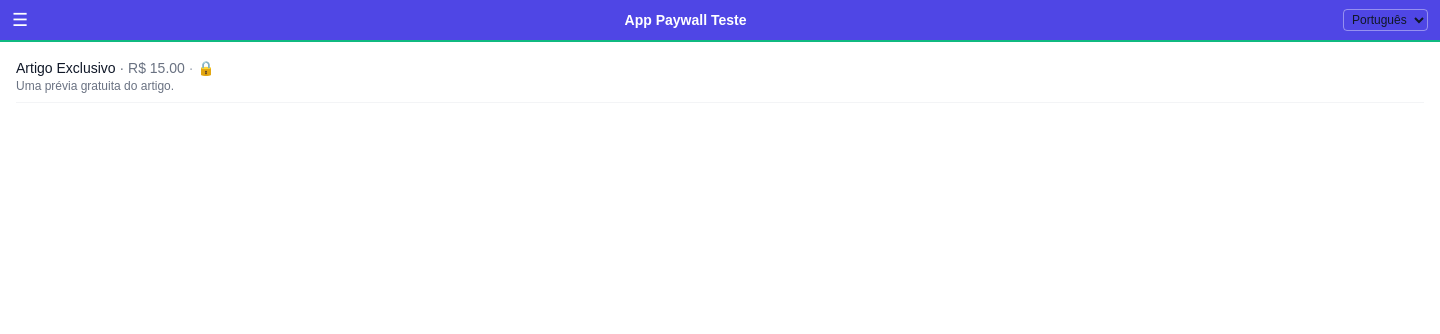
it: AppRuntime conteudo_pago module (public mode) › starts checkout and shows the "Já paguei" confirmation step on unlock click
Expected: the text "Artigo Exclusivo" is shown, [16,60,116,76]
Click the text "Artigo Exclusivo": (115, 68) [16,60,215,76]
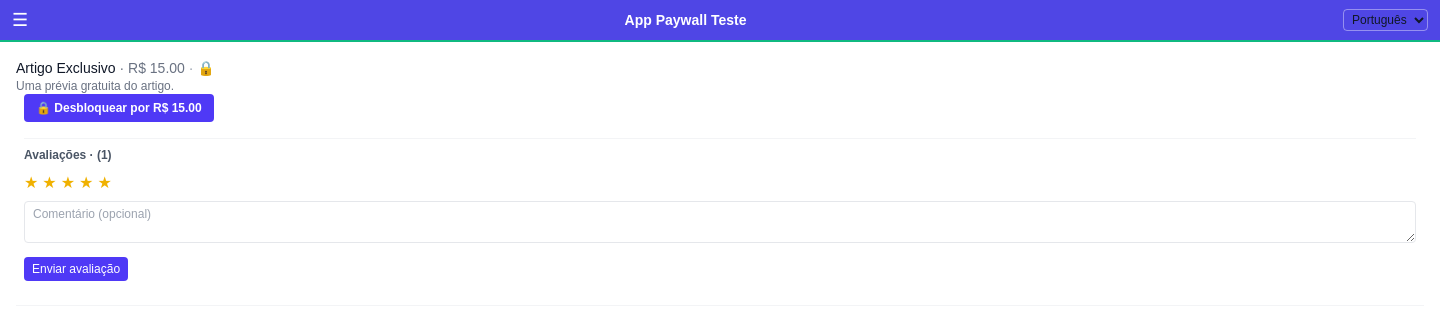
Result: the button "🔒 Desbloquear por R$ 15.00" is shown
Click the button "🔒 Desbloquear por R$ 15.00": (119, 108) [24,94,214,122]
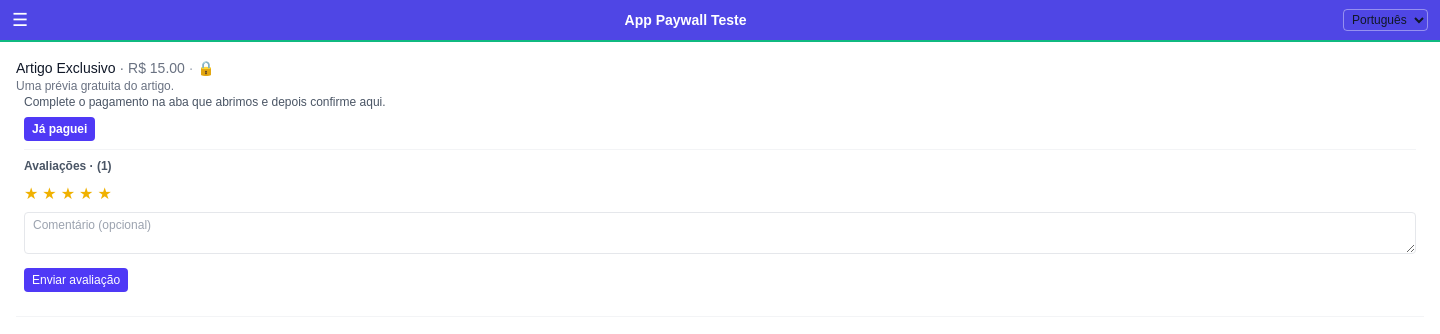
Result: the button "Já paguei" is shown at [24,117,95,141]
